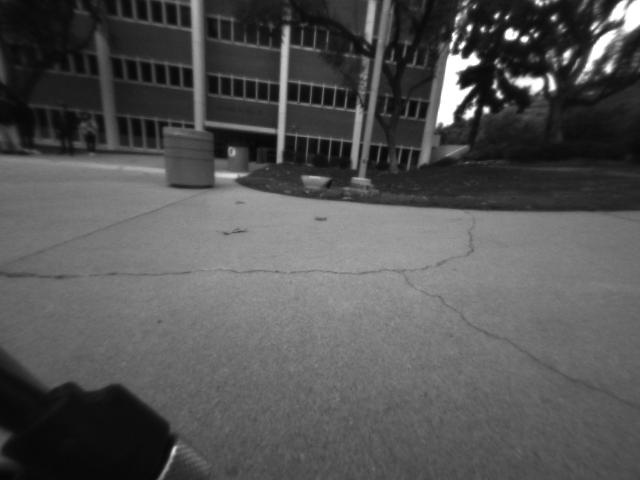trashcan: (153, 117, 219, 189), (225, 139, 253, 179)
